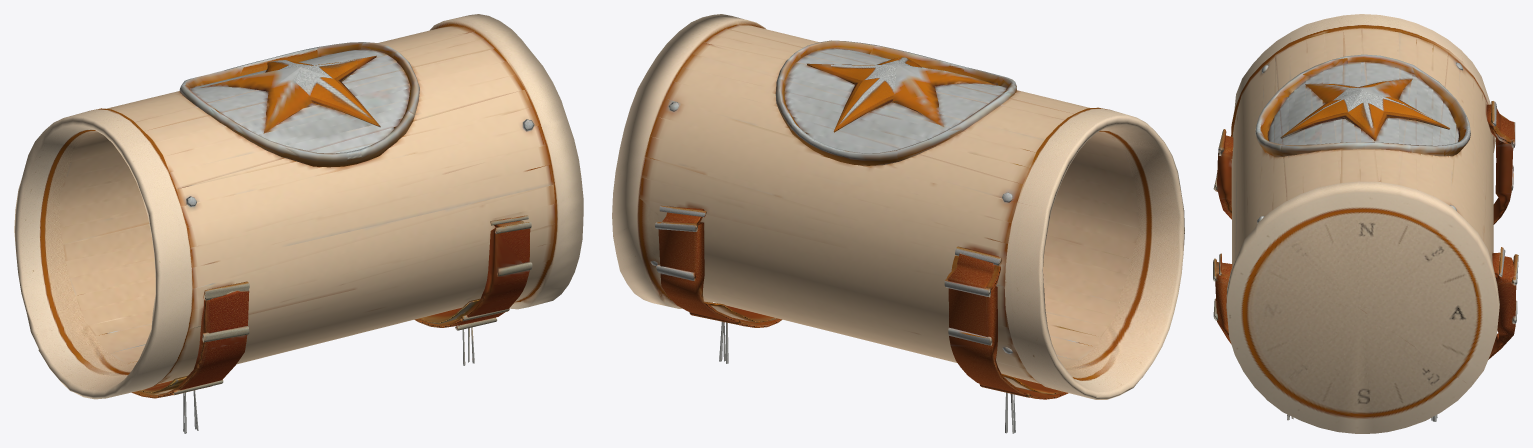
The model's file is silver-bracer_refine.glb.
3 renders of one model, left to right at view 1: azimuth 30°, elevation 25°; view 2: azimuth 150°, elevation 25°; view 3: azimuth 270°, elevation 25°, orthographic. The views are drawn at different scales.
Bounding box in the file's own units: 0.9556 × 0.6187 × 0.6313.
Materials: 1 (1 with a texture image).
